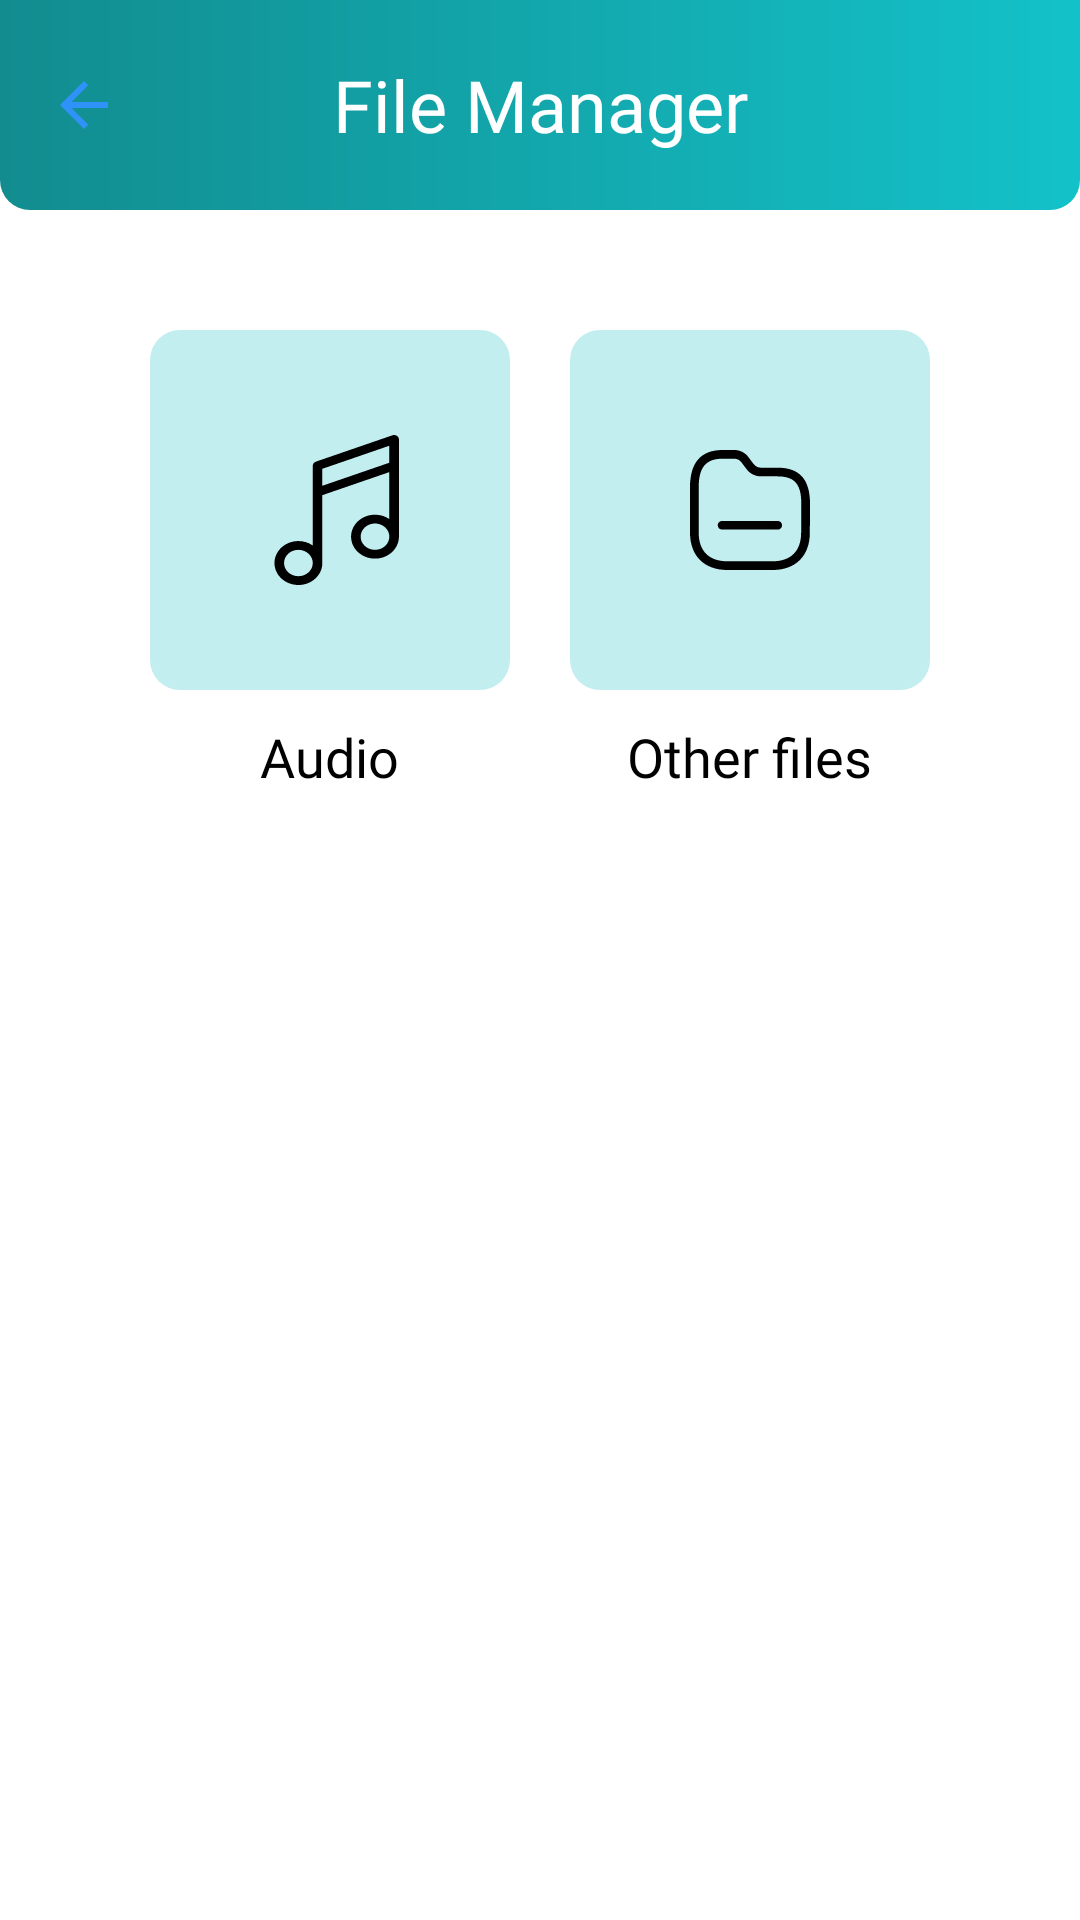

Icons on this 1080×1920 Android screen, each with the point to tap as (x=x, y=y):
arrow back: (x=84, y=105)
file manager: (x=750, y=510)
